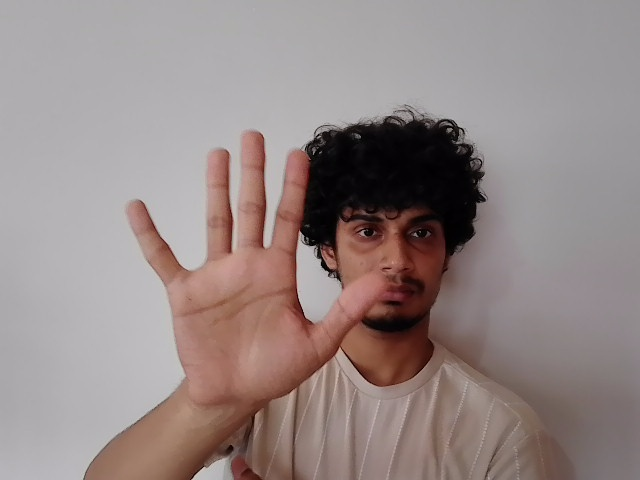goodbye: (124, 128, 385, 399)
